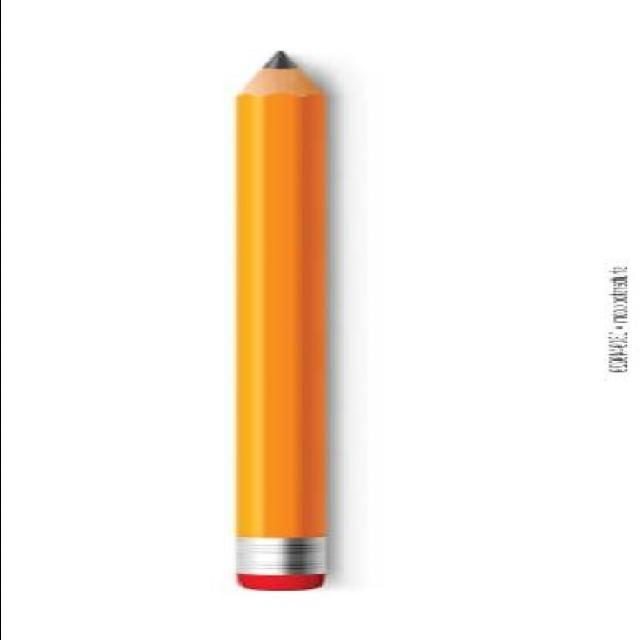Pencil: (226, 44, 332, 112)
